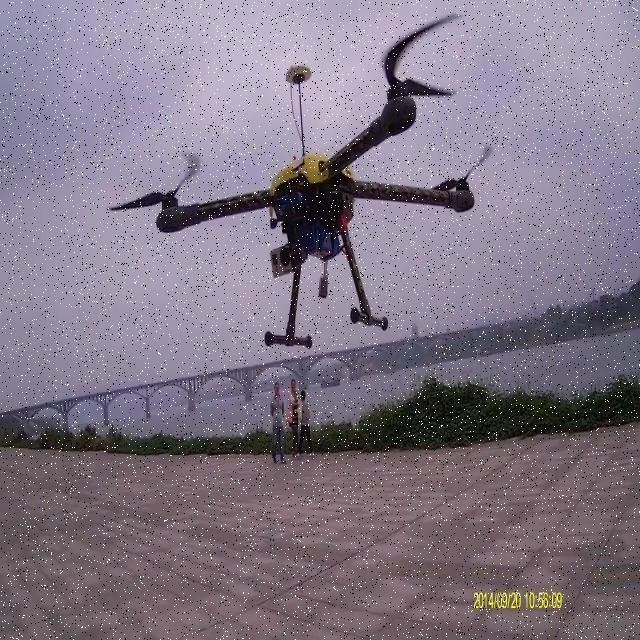UAV: (128, 26, 480, 350)
